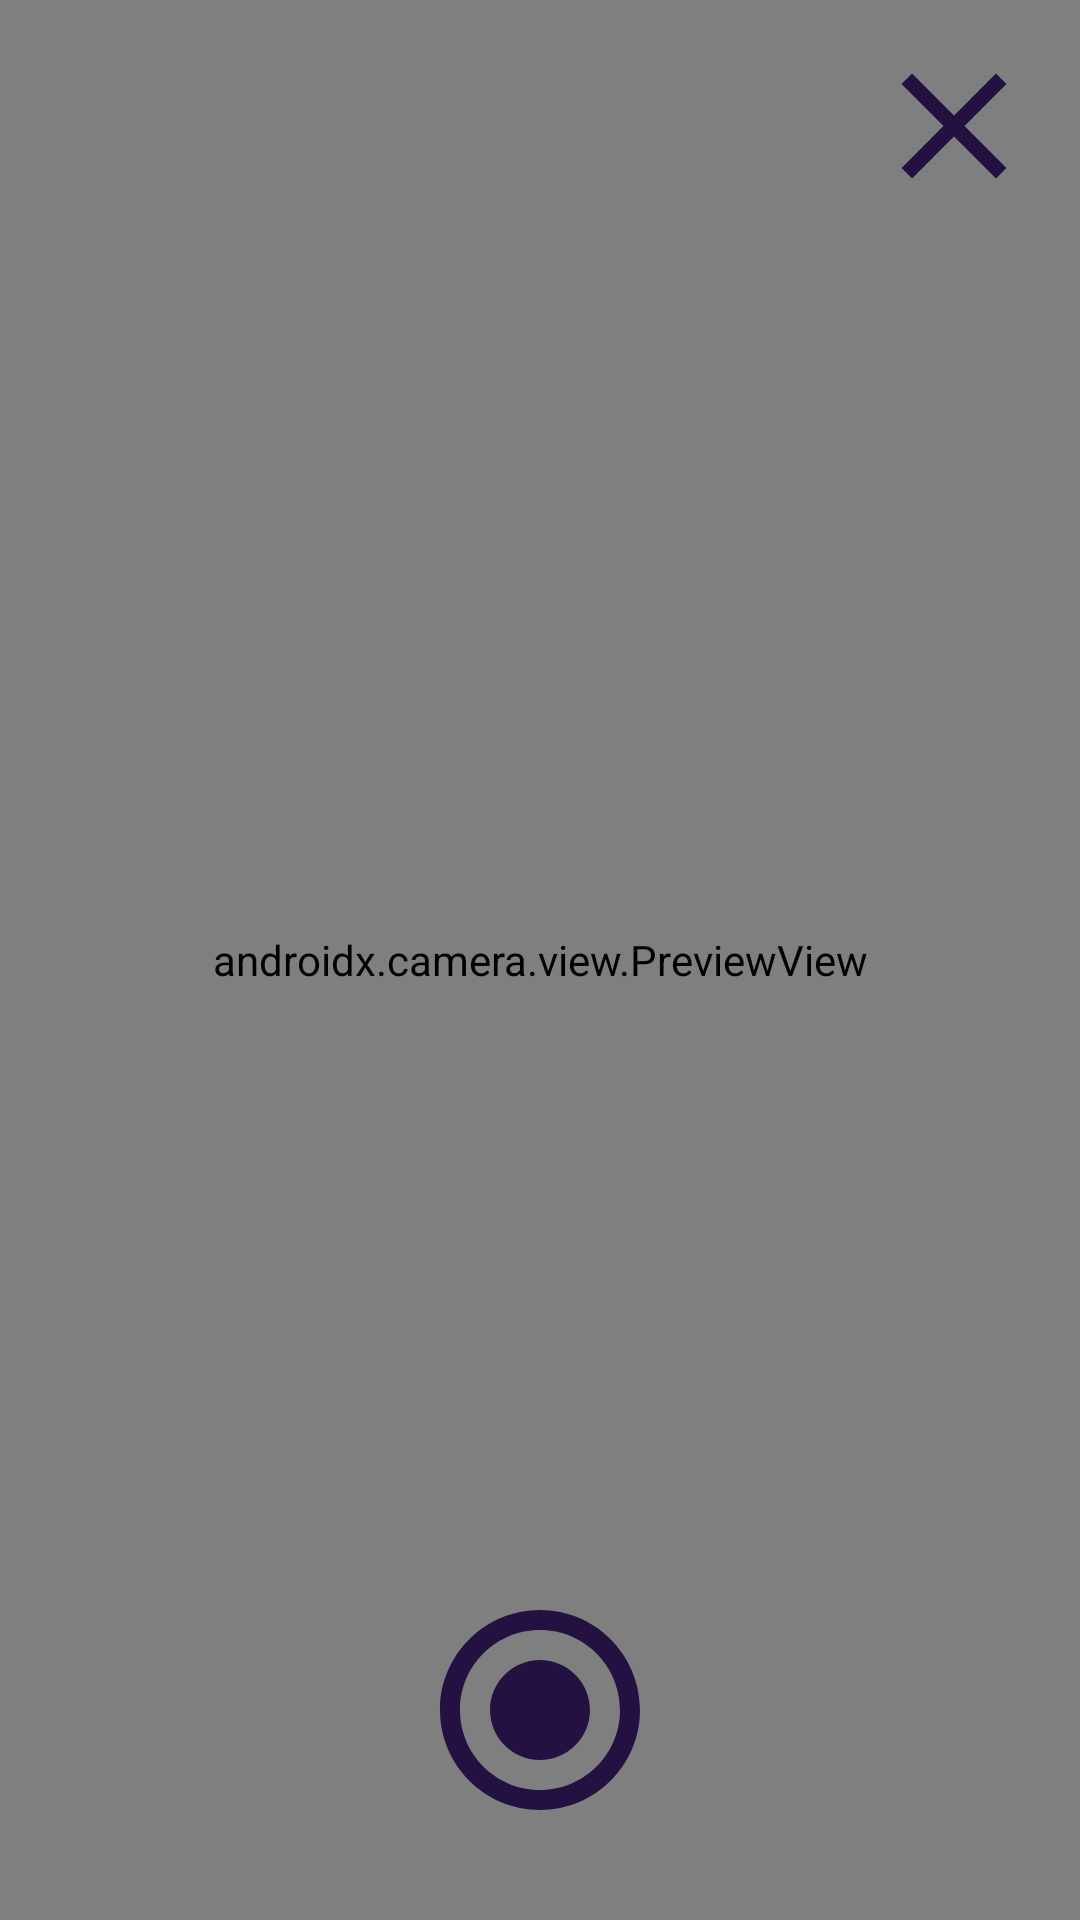

Icon bounding boxes for this 1080 x 1920 phone screenshot, format (x1=x1, y1=y1, x2=x2, y2=y2):
camera act capture photo: (x1=440, y1=1610, x2=640, y2=1810)
